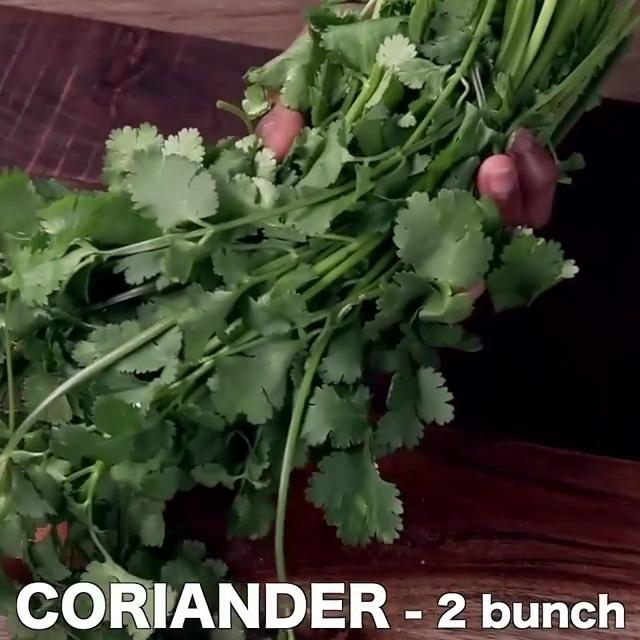cilantro: (0, 181, 454, 551)
